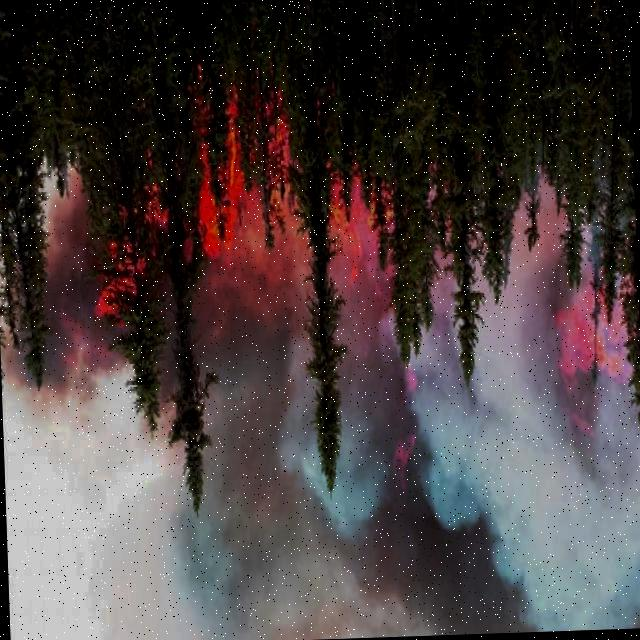api: (233, 102, 301, 224), (560, 274, 630, 382), (188, 106, 233, 252), (97, 224, 156, 323), (386, 426, 422, 484)
asap: (156, 244, 633, 629), (21, 234, 121, 422)
